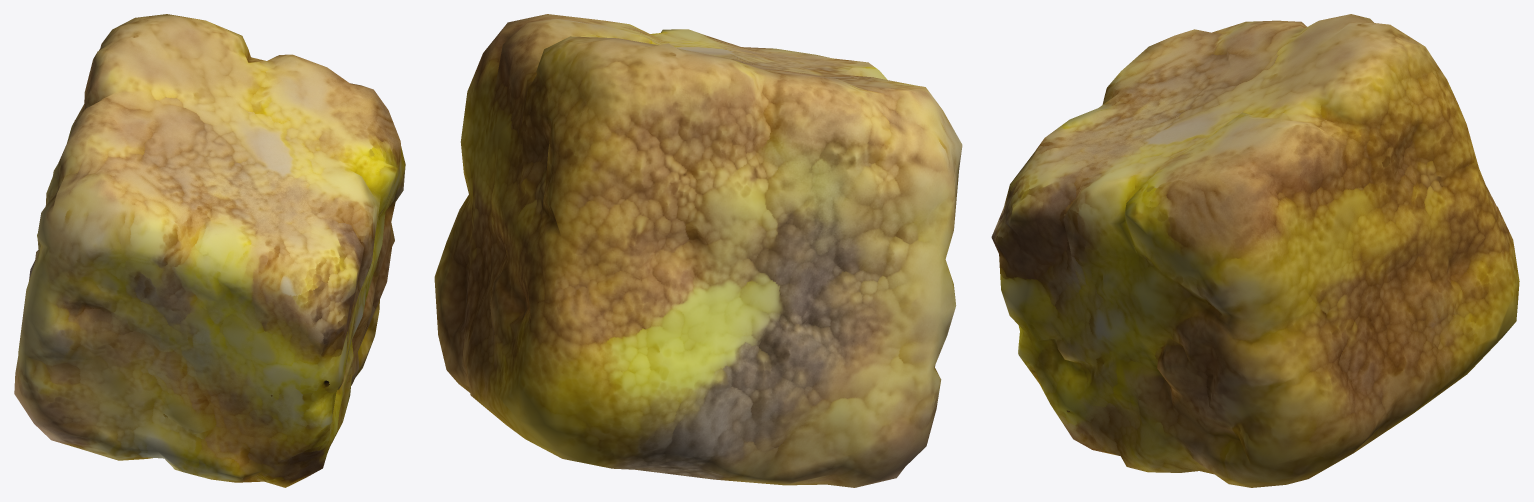
File: sulfur_cube_single_1500.glb
3 renders of one model, left to right at view 1: azimuth 30°, elevation 25°; view 2: azimuth 150°, elevation 25°; view 3: azimuth 270°, elevation 25°, orthographic. The views are drawn at different scales.
Bounding box in the file's own units: 0.8778 × 0.8383 × 0.9811.
Materials: 1 (1 with a texture image).
